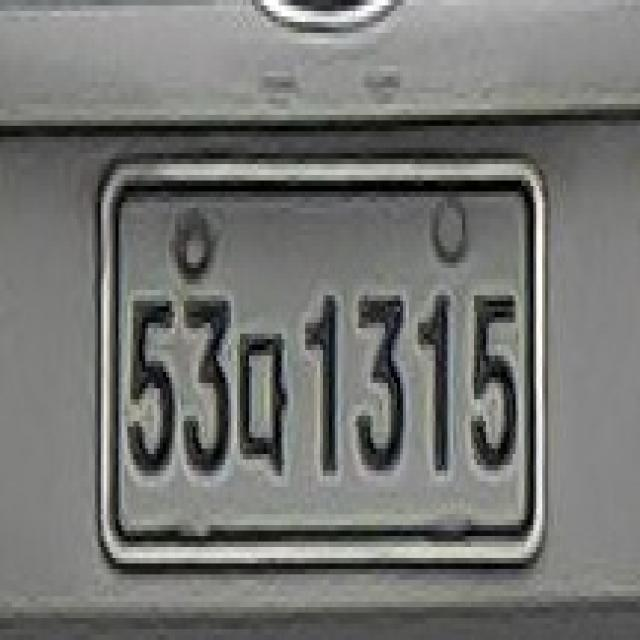1: (296, 263, 356, 503), (403, 262, 462, 498)
3: (355, 279, 415, 487), (184, 279, 234, 481)
5: (465, 284, 525, 476), (127, 279, 181, 487)
da: (234, 317, 299, 476)
license_plate: (86, 142, 554, 591)
